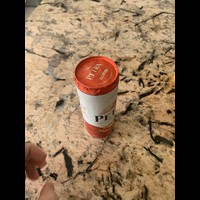petra: (72, 56, 122, 140)
